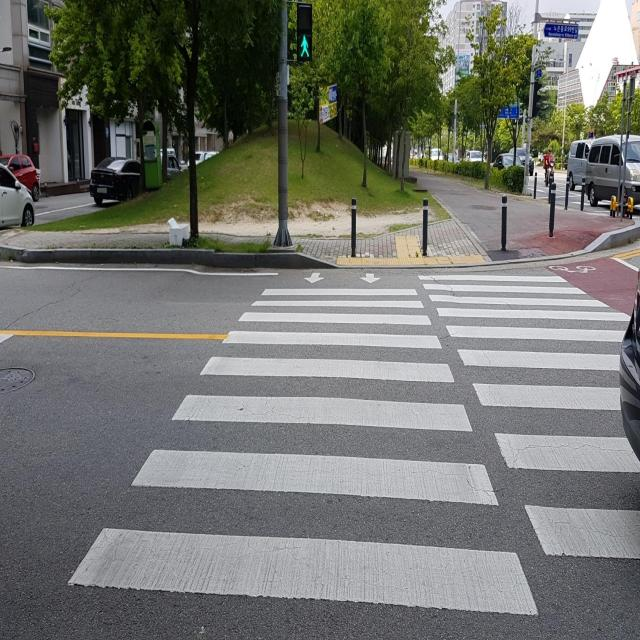초록불: (296, 2, 313, 62)
횡단보도: (68, 272, 640, 615)
